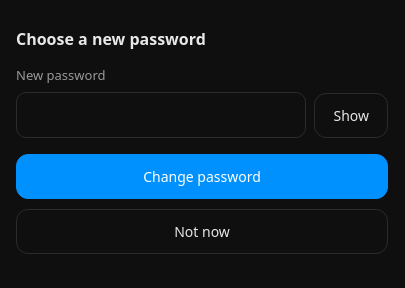
Test: LinkScreen › choosing a new password › keeps the form when the password is refused, and says the server's minimum
The image size is (405, 288).
Type "short" into the password field labelled "New password" at (161, 115), box [16, 92, 306, 138]
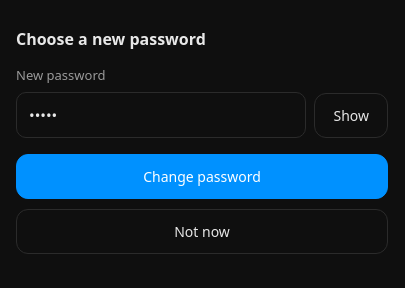
Click the button "Change password" at (202, 176), box [16, 154, 388, 199]
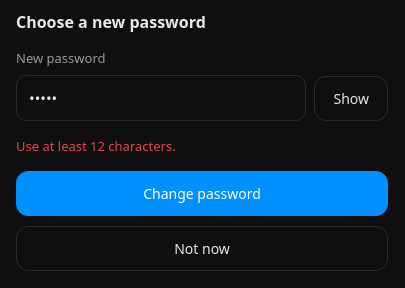
Check: the button "Change password" is shown, box [16, 171, 388, 216]
Check: the message reads "Use at least 12 characters.", box [16, 137, 176, 155]
